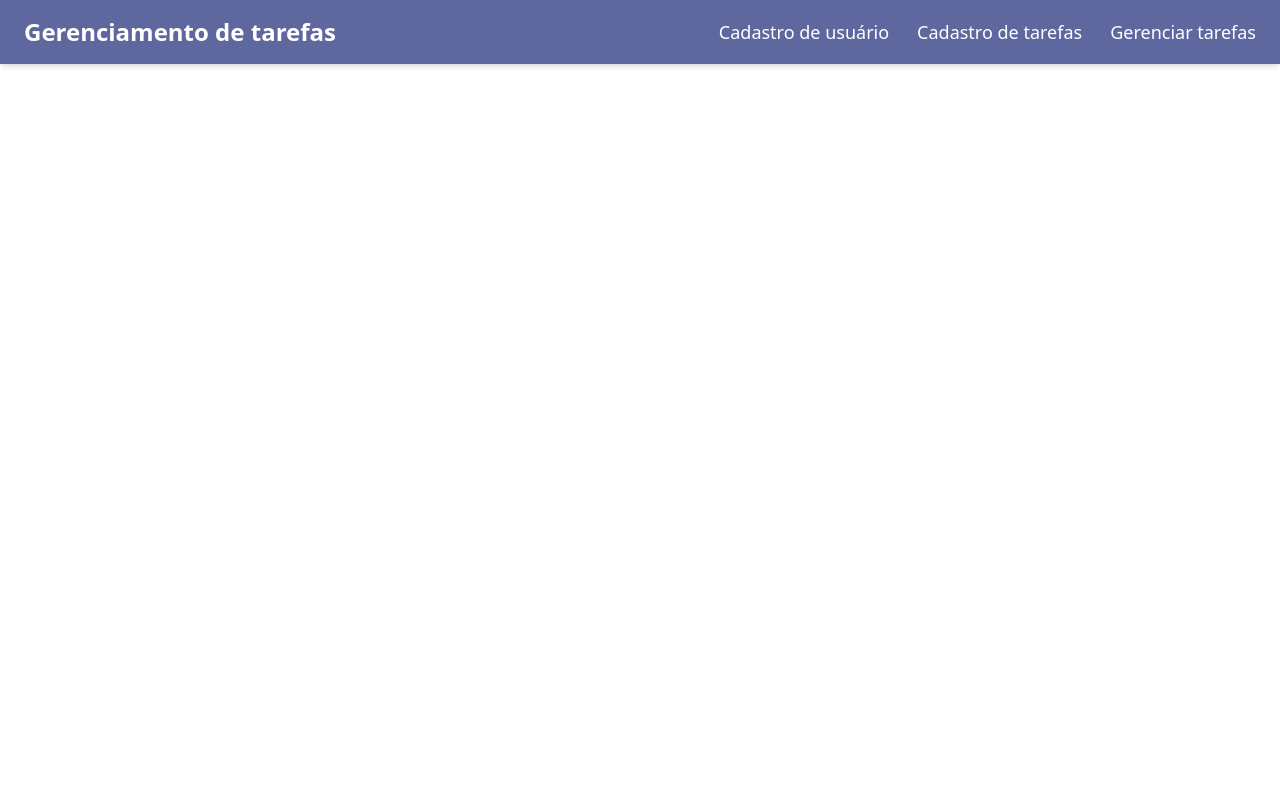
Test: Header Component › abre modal de cadastro de usuário ao clicar no botão
Step 1. Click the menu item with aria-label "abrir cadastro de usuário" → (804, 32), box [719, 18, 889, 46]
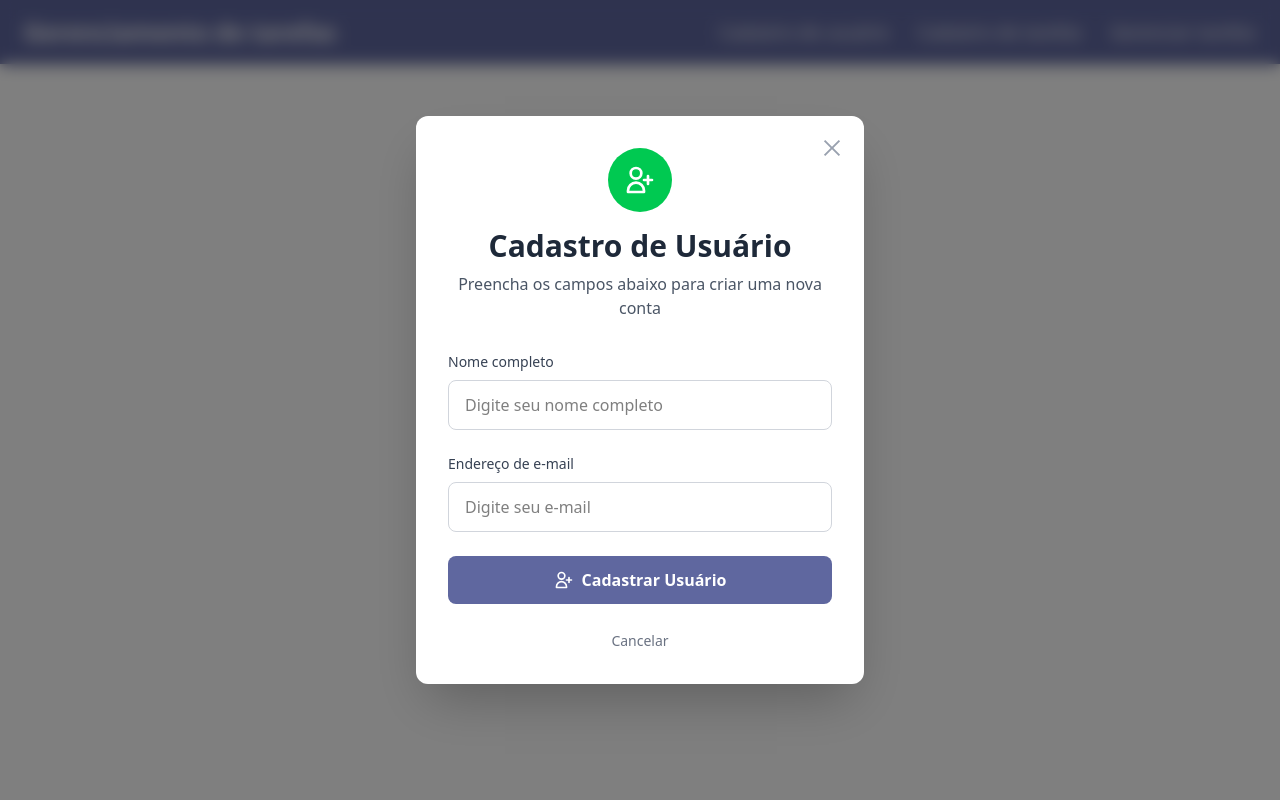
Result: the heading "Cadastro de Usuário" is shown at [488, 225, 792, 266]
